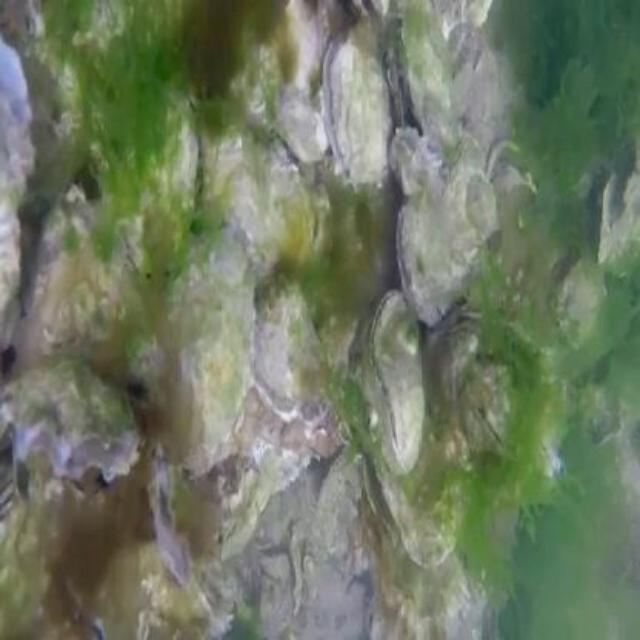Oyster-Closed: (171, 230, 255, 464), (395, 158, 499, 325), (368, 529, 491, 638), (368, 289, 427, 473), (558, 253, 606, 346), (388, 126, 441, 194), (477, 359, 516, 430), (278, 101, 326, 156)
Oyster-Open: (359, 356, 470, 561), (2, 358, 143, 481), (322, 33, 393, 190), (0, 38, 33, 356), (253, 286, 321, 415), (597, 122, 638, 284), (148, 439, 191, 583)
